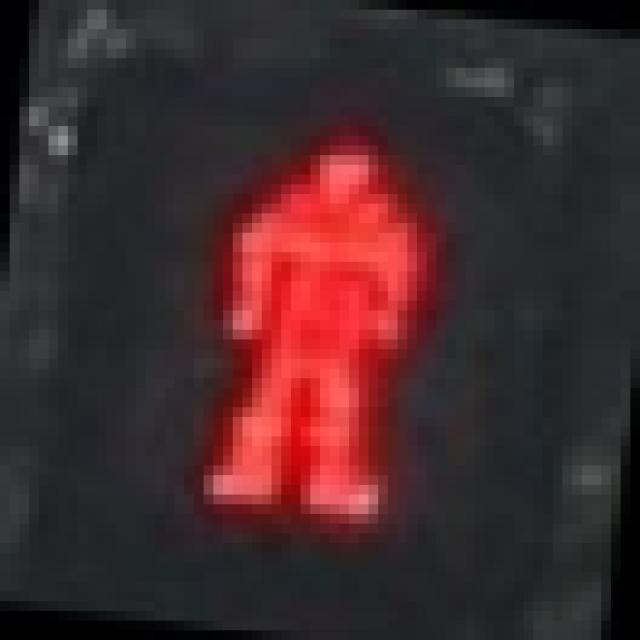red-crossing: (68, 68, 543, 543)
